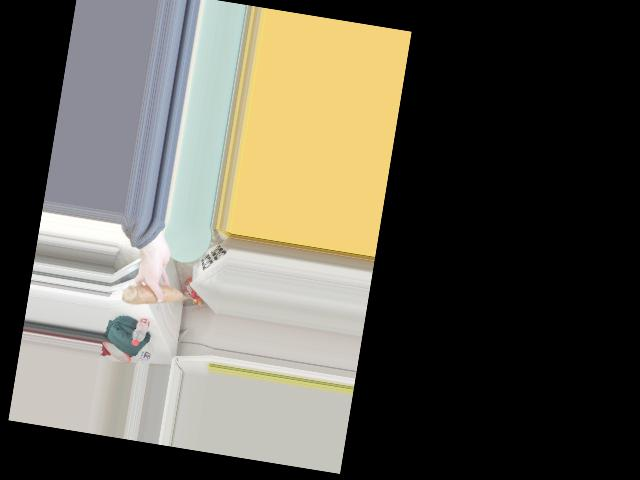sweet_potato: (121, 281, 186, 307)
